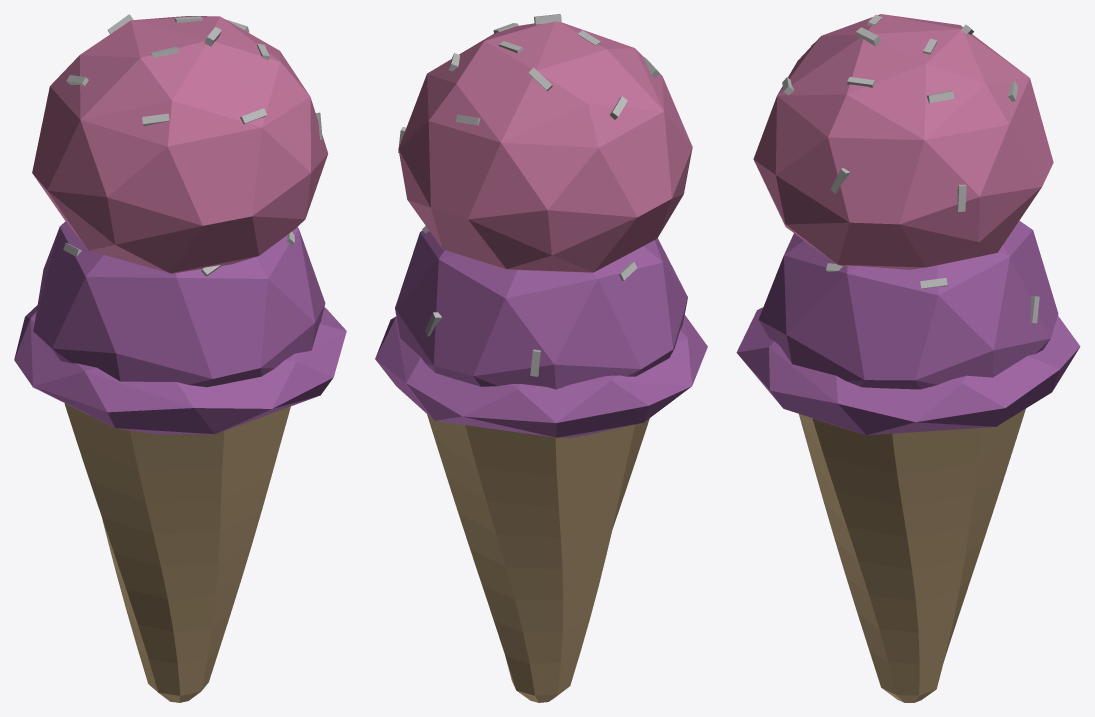
File: IceCream_2.glb
3 renders of one model, left to right at view 1: azimuth 30°, elevation 25°; view 2: azimuth 150°, elevation 25°; view 3: azimuth 270°, elevation 25°, orthographic.
Parts seen in each view (by area): view 1: IceCream_2; view 2: IceCream_2; view 3: IceCream_2.
Boxes of the visible parts, left/top/right/bottom form: IceCream_2: left=14, top=14, right=346, bottom=702; IceCream_2: left=375, top=14, right=707, bottom=702; IceCream_2: left=736, top=14, right=1080, bottom=702.
Size of the model in its own units: 0.7296 by 1.57 by 0.7296.
